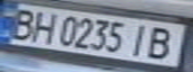0: (54, 14, 78, 47)
2: (72, 15, 96, 51)
3: (90, 17, 112, 52)
5: (106, 19, 130, 55)
B: (142, 24, 184, 61), (3, 6, 42, 40)
H: (27, 9, 60, 44)
I: (124, 21, 154, 57)
